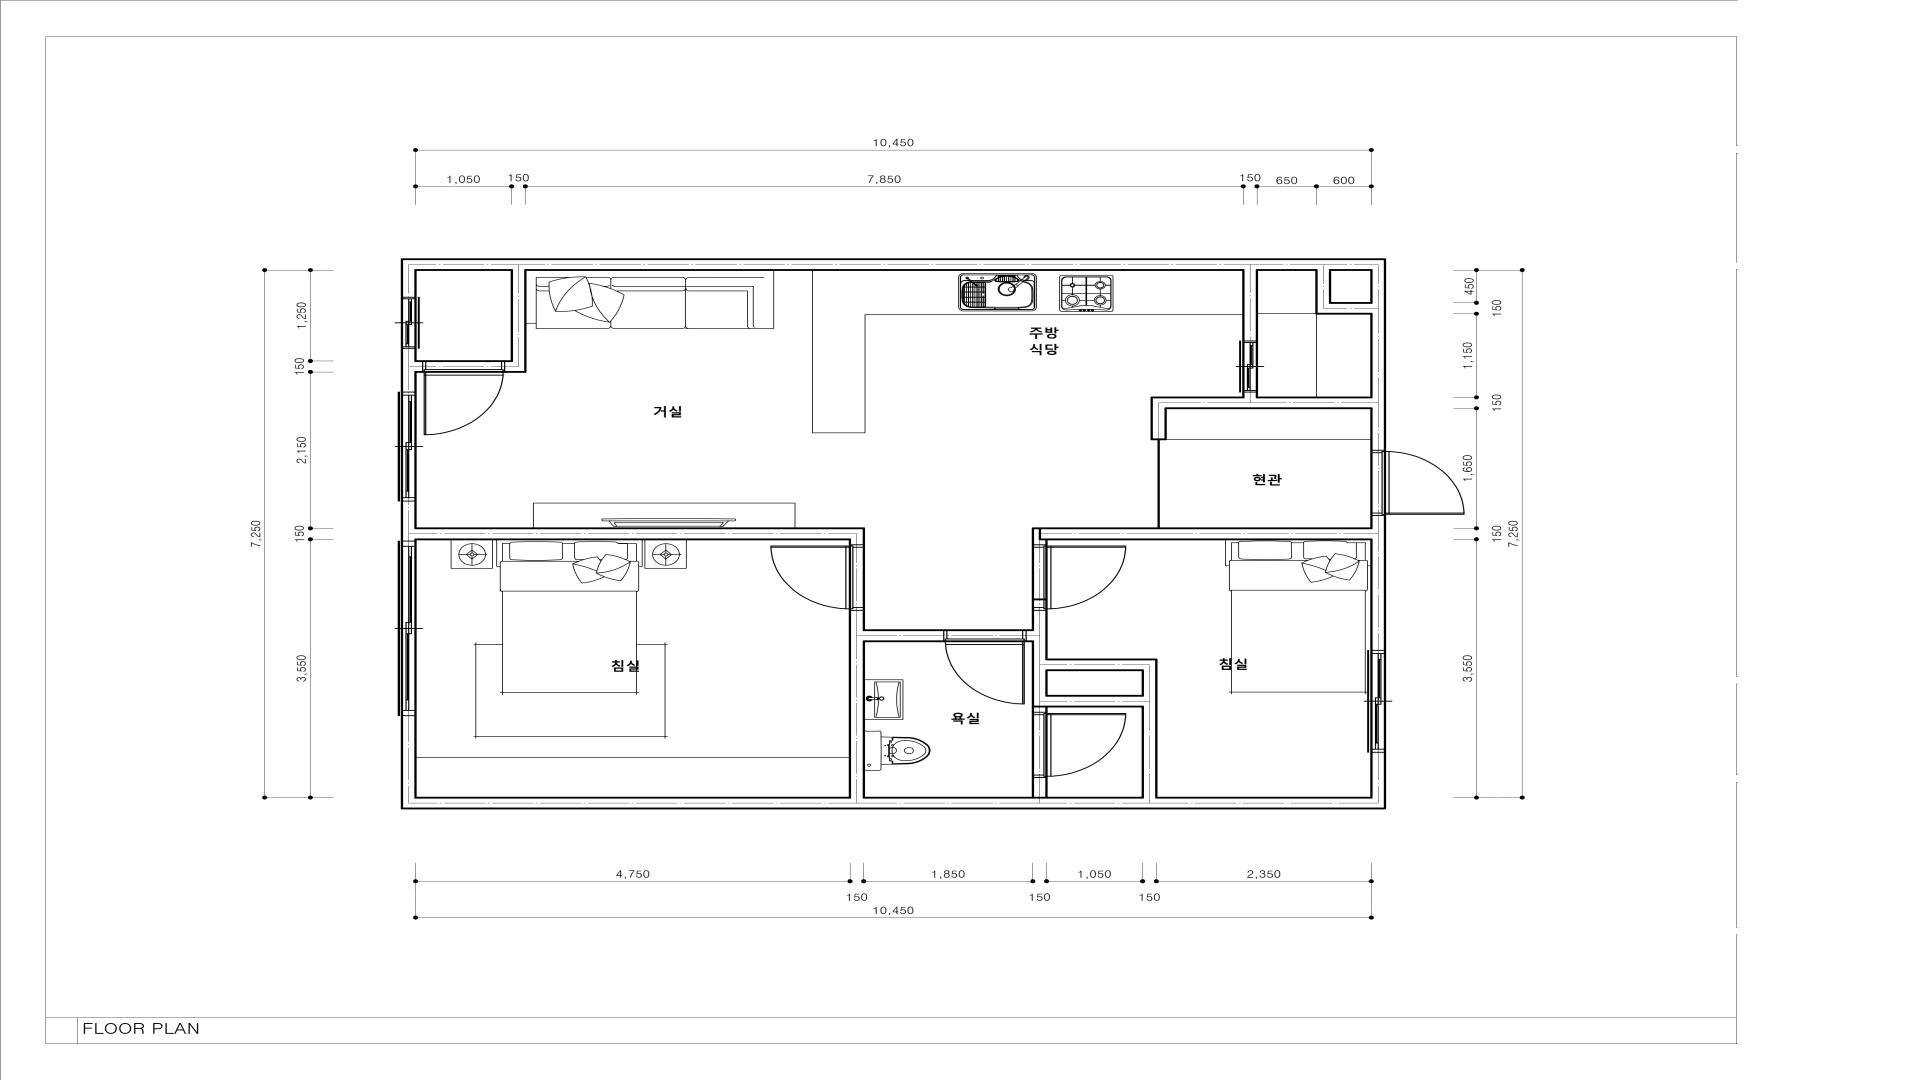door: (1031, 545, 1126, 611), (770, 545, 865, 611), (1031, 712, 1126, 778), (1370, 450, 1465, 516), (422, 360, 505, 435), (944, 629, 1027, 704)
wall: (401, 753, 1386, 810), (848, 611, 944, 796), (417, 258, 1386, 272), (417, 527, 865, 545), (1031, 527, 1370, 545), (1150, 393, 1370, 409), (1370, 272, 1386, 450), (505, 272, 526, 373), (1370, 516, 1386, 650), (1142, 671, 1158, 796), (1047, 658, 1158, 671), (401, 716, 417, 798), (1047, 695, 1142, 708), (1242, 272, 1258, 340), (1027, 611, 1047, 659), (1031, 658, 1047, 712), (401, 348, 417, 392), (401, 501, 417, 541), (401, 258, 417, 297), (1151, 409, 1167, 440), (1031, 778, 1047, 796)
window: (398, 541, 417, 716), (398, 392, 417, 501), (1367, 650, 1386, 753), (401, 297, 419, 349), (1240, 340, 1258, 393)
